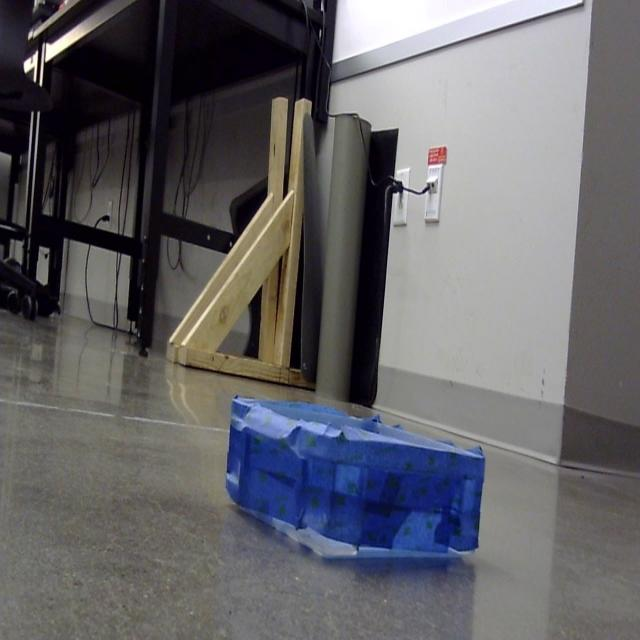bucket: (224, 398, 486, 564)
